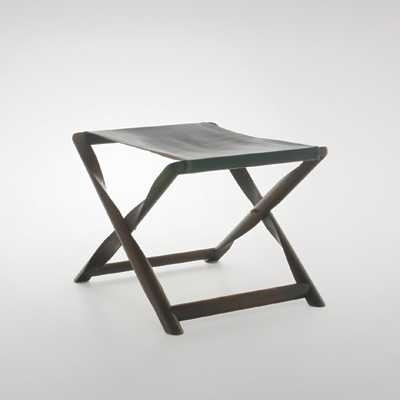obstacle: (73, 122, 326, 334)
